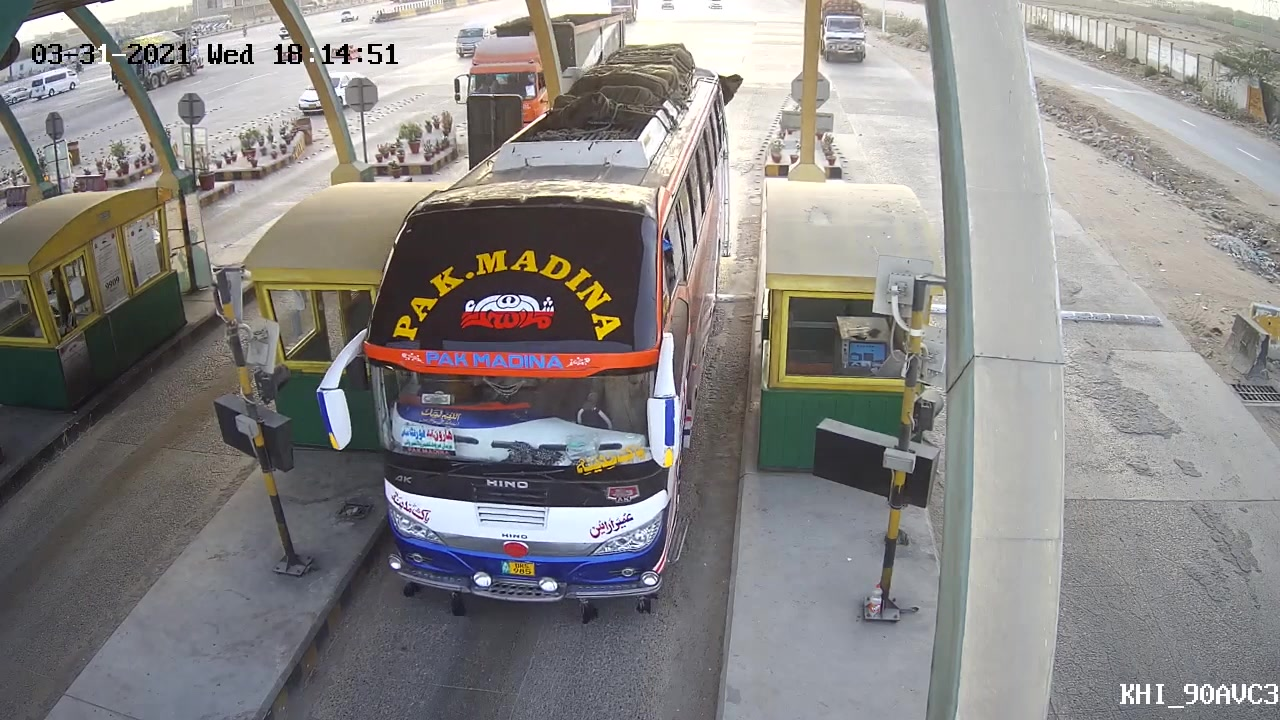F4: (310, 48, 740, 613)
